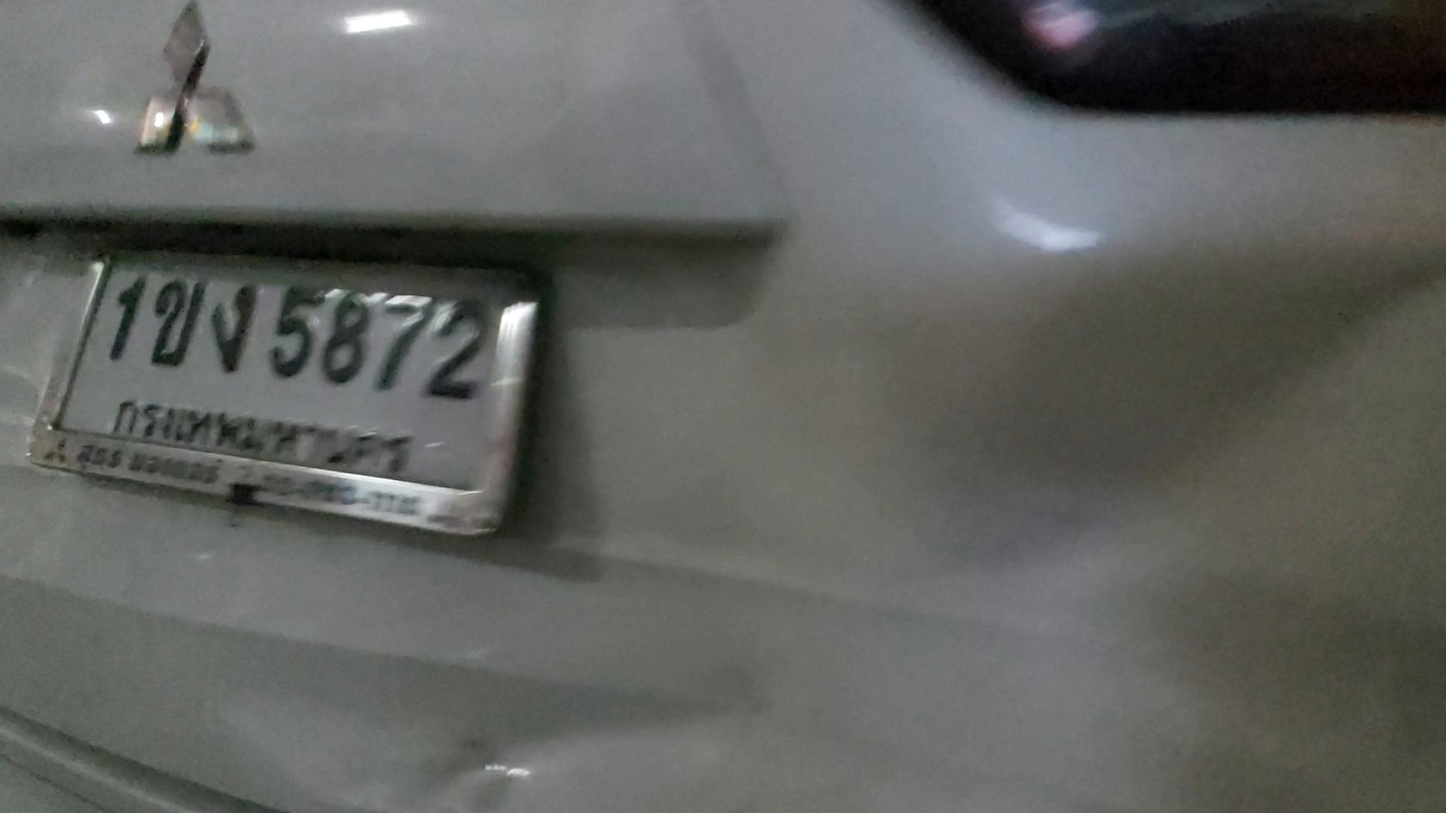license-plate: (50, 256, 505, 494)
